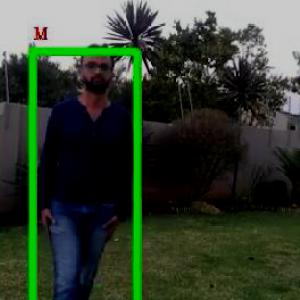follow: (37, 32, 128, 299)
